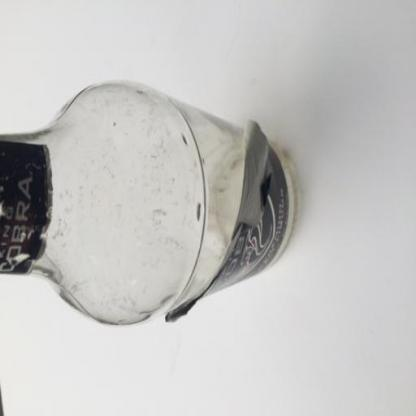trash: (1, 80, 302, 328)
